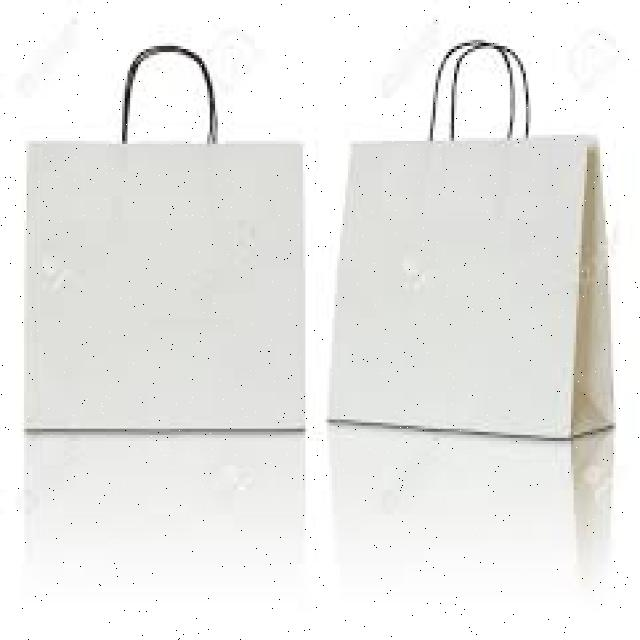paper bag: (325, 38, 618, 440), (21, 43, 310, 434)
